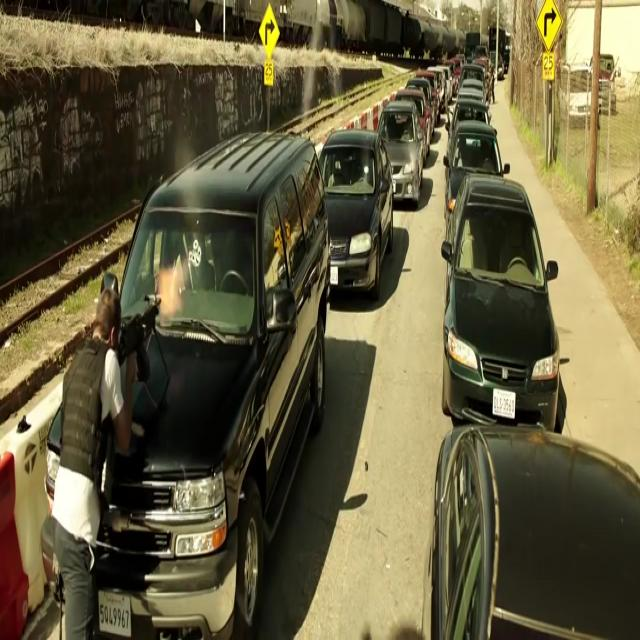Weapon: (102, 256, 180, 399)
